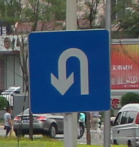u_turn: (27, 28, 111, 114)
